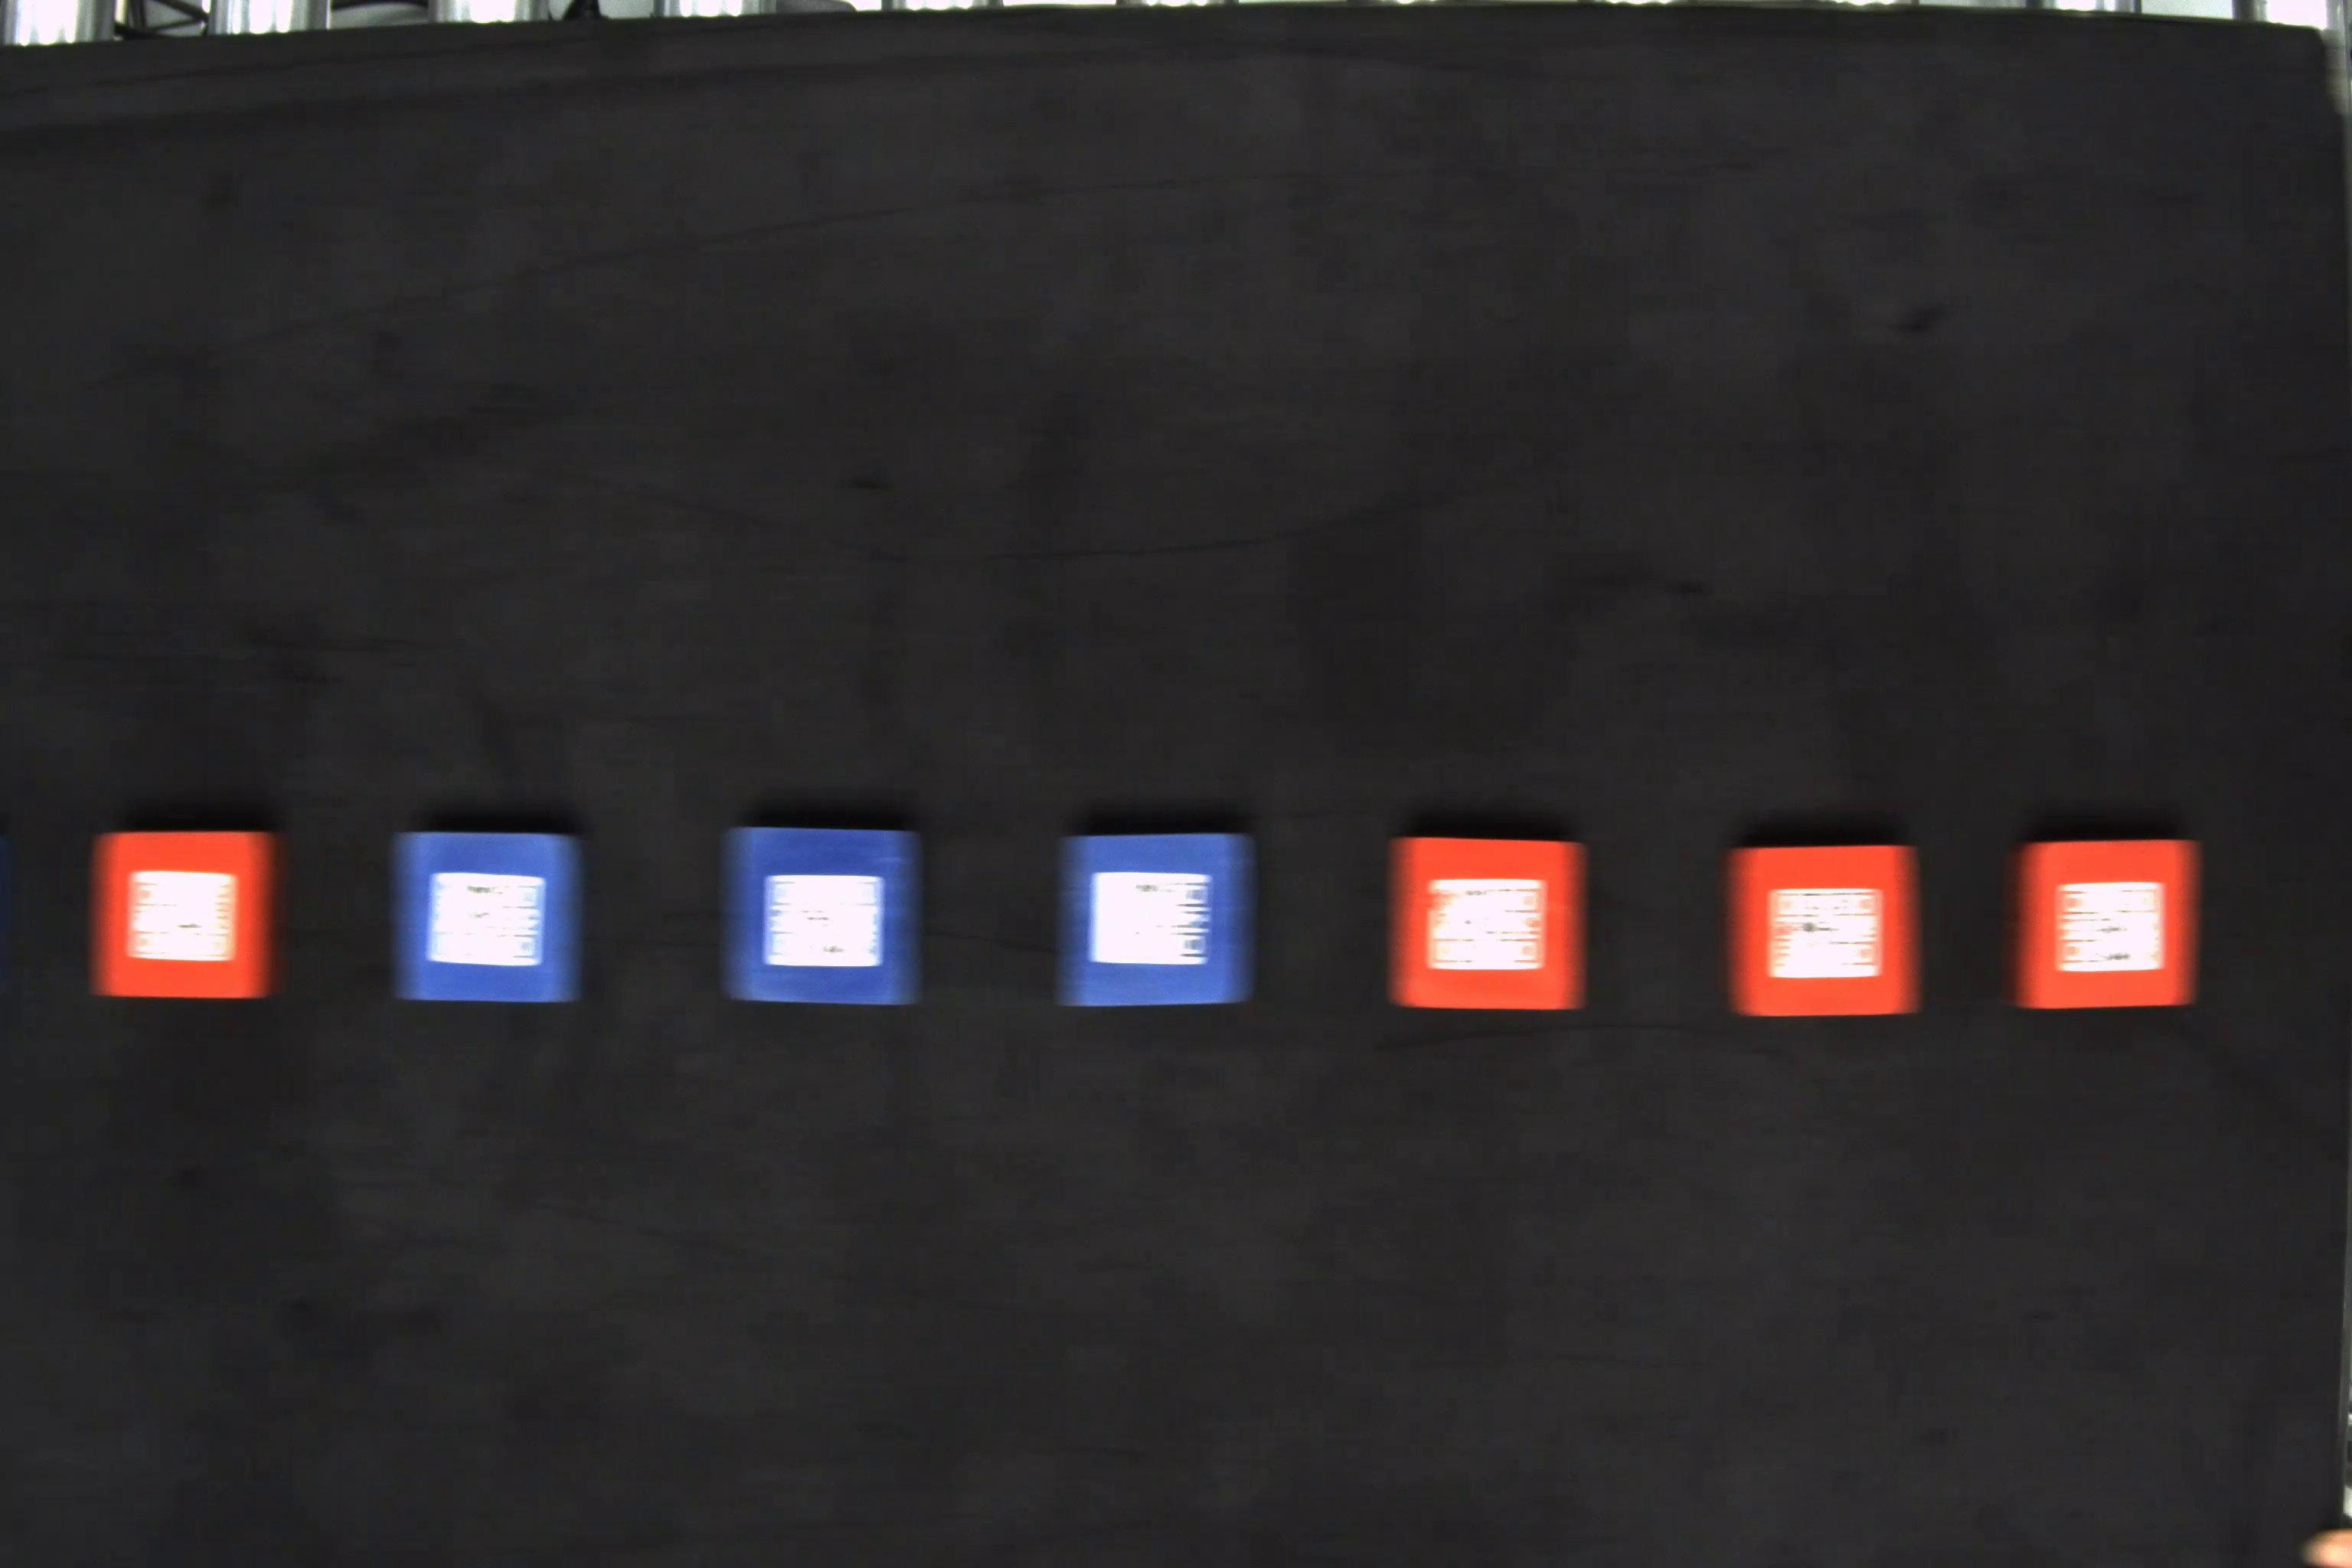wood: (717, 824, 931, 1004), (1057, 828, 1256, 1006), (87, 828, 289, 1004), (2009, 842, 2210, 1015), (1727, 847, 1928, 1018), (1389, 840, 1592, 1008), (392, 828, 576, 997)
